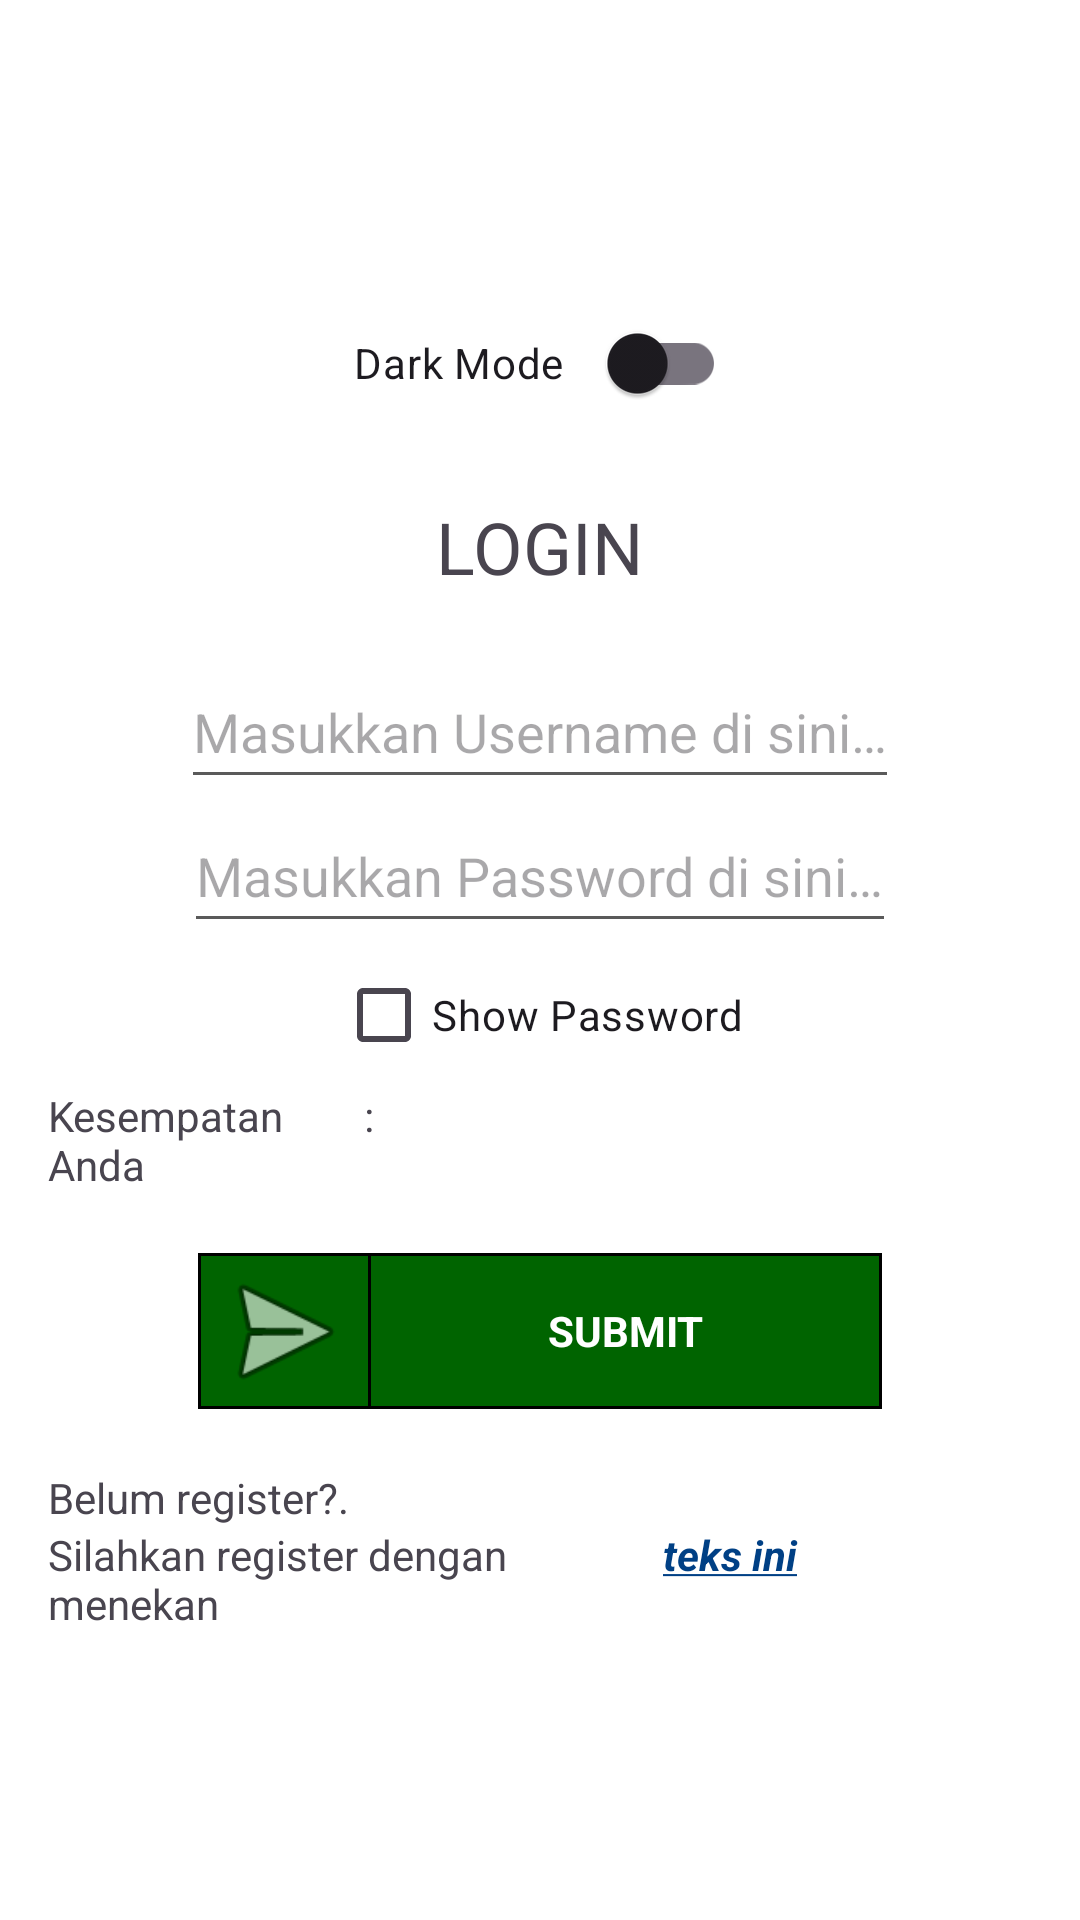

Named icons in this screenshot (1080px x 1920px) and their centers, point (x, y):
send: point (284, 1331)
